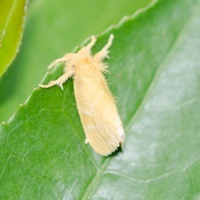insect: (39, 34, 124, 155)
